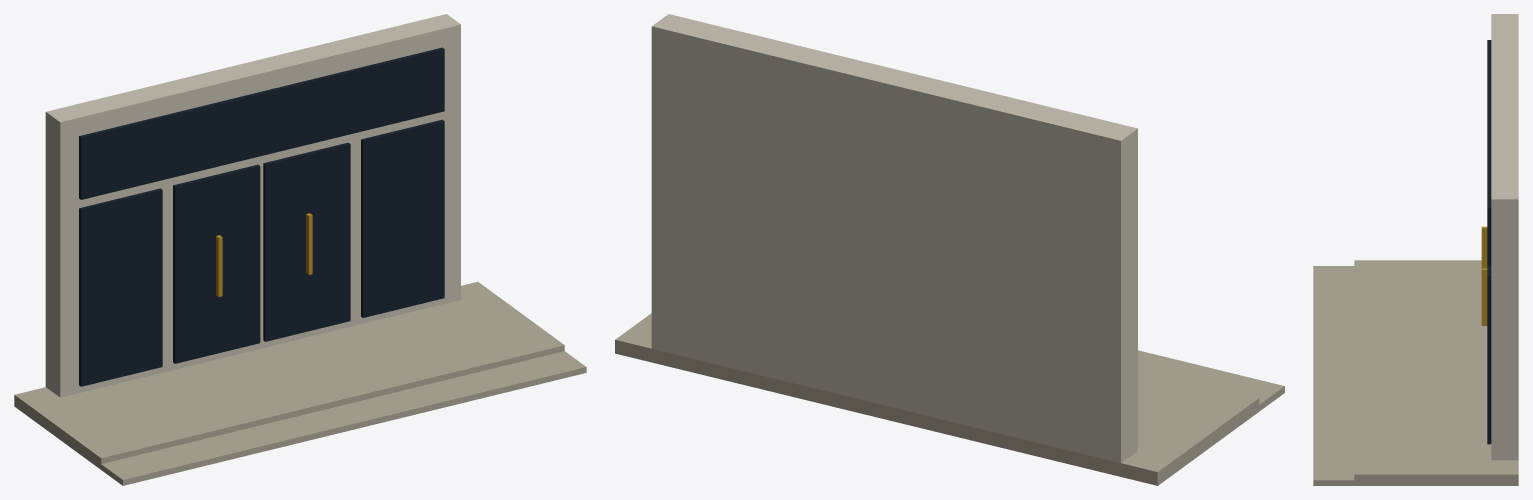
The model's file is pintu.glb.
3 renders of one model, left to right at view 1: azimuth 30°, elevation 25°; view 2: azimuth 150°, elevation 25°; view 3: azimuth 270°, elevation 25°, orthographic. The views are drawn at different scales.
Visible parts, largest first — view 1: potongan_pintu; view 2: potongan_pintu; view 3: potongan_pintu.
Boxes of the visible parts, left/top/right/bottom form: potongan_pintu: left=14, top=14, right=586, bottom=485; potongan_pintu: left=615, top=14, right=1284, bottom=485; potongan_pintu: left=1313, top=14, right=1518, bottom=485.
Bounding box in the file's own units: 7.4 × 4.38 × 3.
